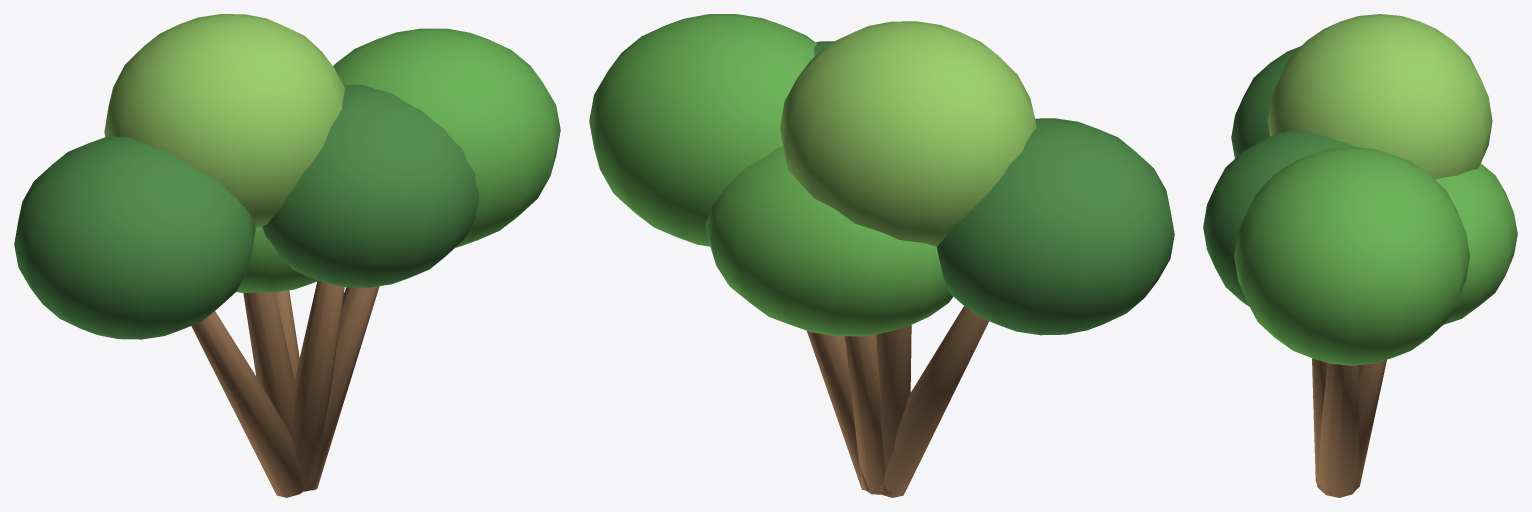
File: Bush_Branched.fbx
3 renders of one model, left to right at view 1: azimuth 30°, elevation 25°; view 2: azimuth 150°, elevation 25°; view 3: azimuth 270°, elevation 25°, orthographic. The views are drawn at different scales.
Visible parts, largest first — view 1: Foliage_Pad_00, Foliage_Pad_02, Foliage_Pad_03, Foliage_Pad_01, Branch_00, Branch_03, Branch_02, Branch_01, Foliage_Pad_04, Branch_04; view 2: Foliage_Pad_02, Foliage_Pad_00, Foliage_Pad_01, Foliage_Pad_04, Branch_00, Branch_04, Branch_02, Branch_01; view 3: Foliage_Pad_01, Foliage_Pad_02, Foliage_Pad_03, Foliage_Pad_04, Branch_01, Foliage_Pad_00, Branch_04, Branch_03.
Boxes of the visible parts, x1,y1,x2,y2 form: Foliage_Pad_00: [14, 136, 255, 339]; Foliage_Pad_02: [104, 14, 345, 227]; Foliage_Pad_03: [262, 84, 479, 287]; Foliage_Pad_01: [333, 28, 560, 247]; Branch_00: [191, 311, 311, 497]; Branch_03: [293, 280, 344, 491]; Branch_02: [243, 292, 309, 486]; Branch_01: [301, 286, 379, 490]; Foliage_Pad_04: [236, 226, 317, 293]; Branch_04: [274, 290, 299, 379]; Foliage_Pad_02: [780, 21, 1036, 246]; Foliage_Pad_00: [937, 118, 1174, 335]; Foliage_Pad_01: [589, 14, 816, 246]; Foliage_Pad_04: [706, 146, 953, 336]; Branch_00: [877, 306, 988, 497]; Branch_04: [845, 334, 888, 494]; Branch_02: [863, 325, 911, 494]; Branch_01: [807, 331, 869, 490]; Foliage_Pad_01: [1234, 146, 1469, 365]; Foliage_Pad_02: [1267, 14, 1492, 179]; Foliage_Pad_03: [1203, 130, 1354, 306]; Foliage_Pad_04: [1435, 163, 1517, 324]; Branch_01: [1317, 363, 1359, 497]; Foliage_Pad_00: [1231, 46, 1300, 158]; Branch_04: [1353, 360, 1386, 491]; Branch_03: [1312, 358, 1354, 493].
Size of the model in its own units: 206 by 174 by 112.
